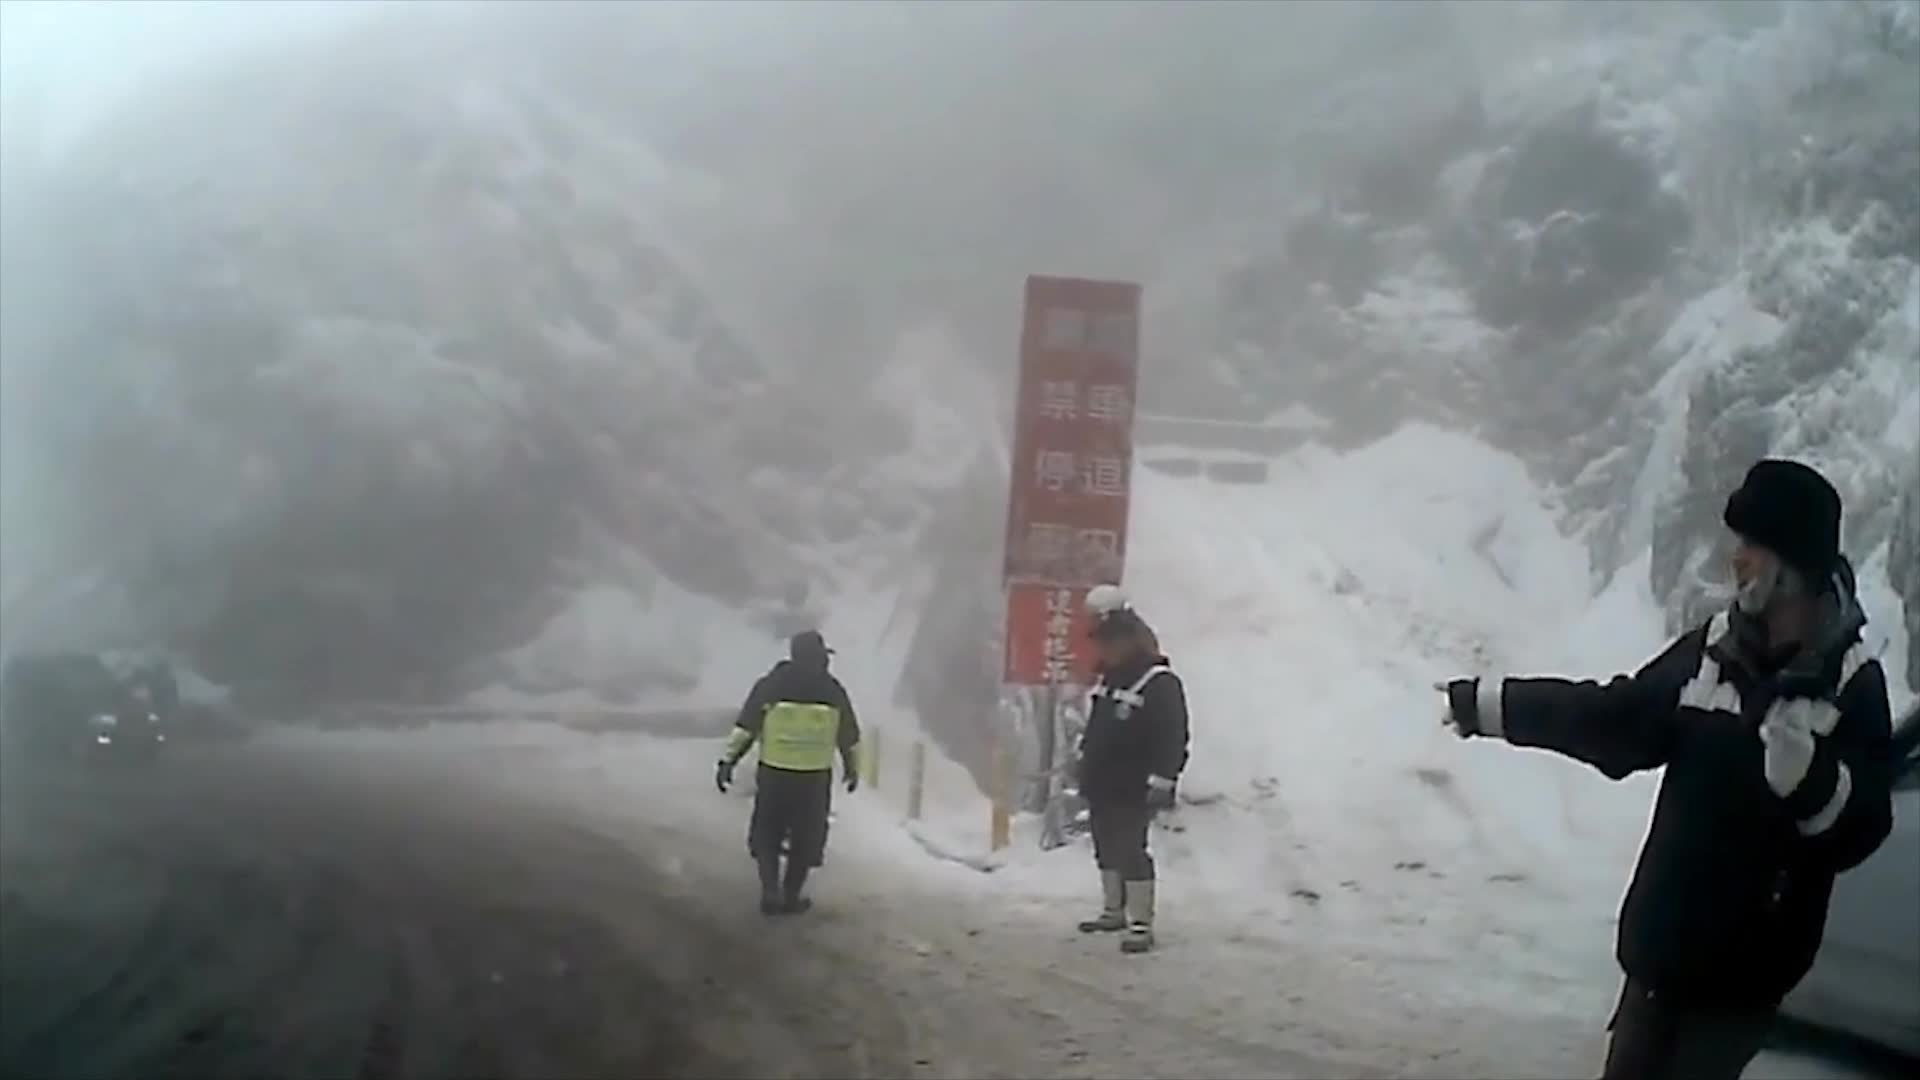pedestrian: (1423, 458, 1886, 1079), (1075, 610, 1194, 953), (716, 639, 861, 917)
vehicle: (1676, 700, 1920, 1080), (0, 652, 168, 772)
